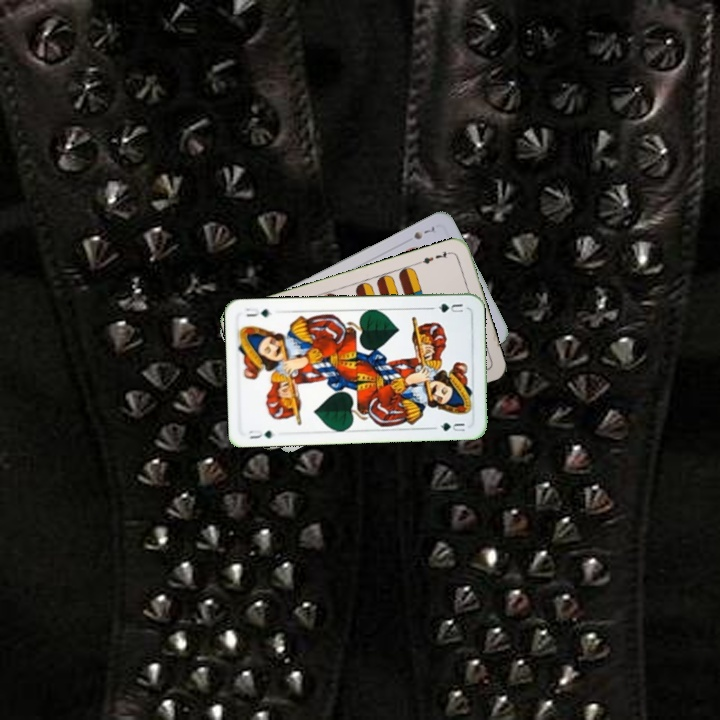E7: (414, 247, 454, 267)
GU: (428, 299, 466, 315), (244, 426, 278, 442)
S7: (410, 222, 439, 242)
